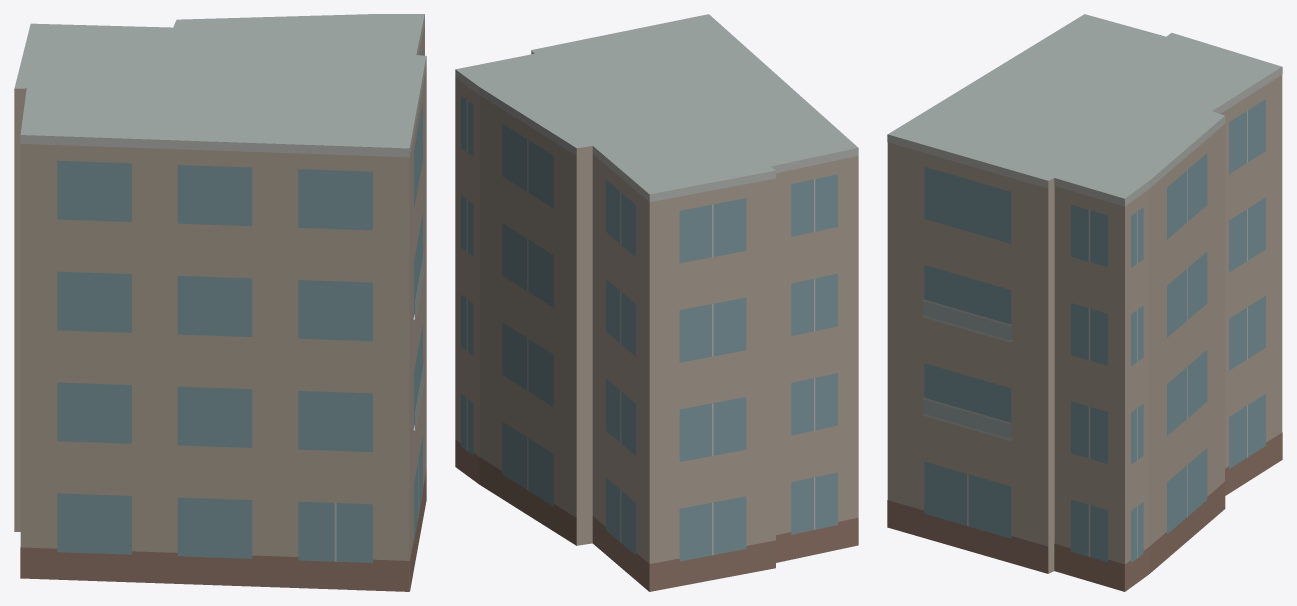
File: survey-upis-32474883.glb
3 renders of one model, left to right at view 1: azimuth 30°, elevation 25°; view 2: azimuth 150°, elevation 25°; view 3: azimuth 270°, elevation 25°, orthographic. The views are drawn at different scales.
Visible parts, largest first — view 1: survey-upis-32474883.tmp; view 2: survey-upis-32474883.tmp; view 3: survey-upis-32474883.tmp.
Boxes of the visible parts, <box> form: survey-upis-32474883.tmp: <box>14,14,426,591</box>; survey-upis-32474883.tmp: <box>455,14,858,591</box>; survey-upis-32474883.tmp: <box>887,14,1282,591</box>.
Bounding box in the file's own units: 12.31 × 12.2 × 11.11.
